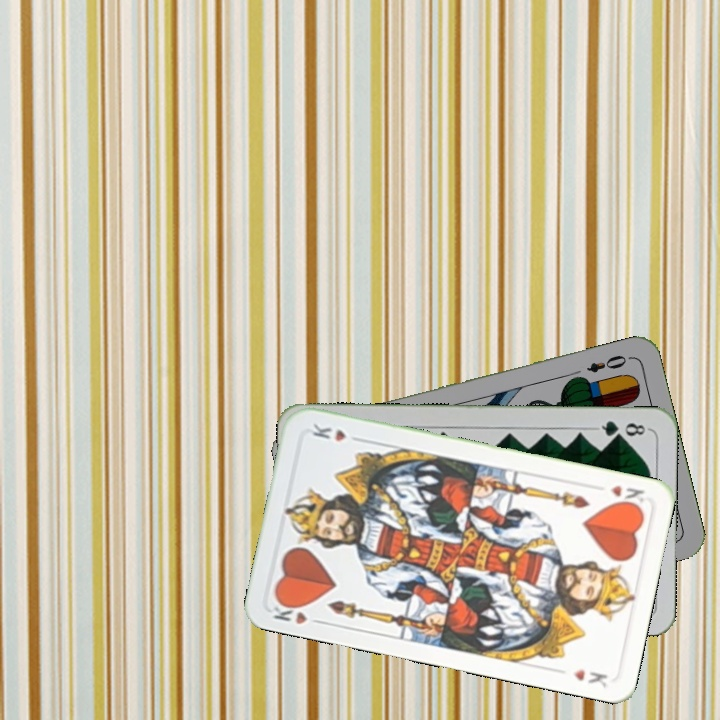EO: (583, 351, 634, 375)
G8: (592, 416, 651, 440)
HK: (268, 595, 326, 627), (607, 481, 647, 511)
